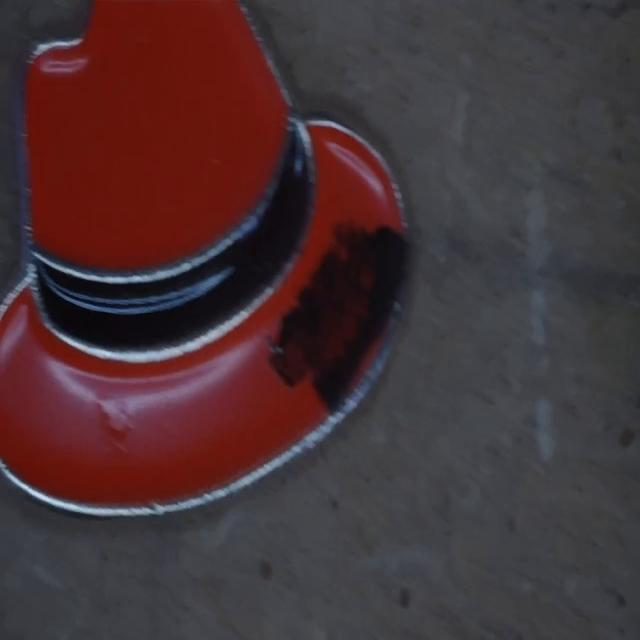Hatband: (34, 120, 314, 353)
Paint_Leak: (271, 224, 406, 411)
RedHatPin: (0, 0, 406, 516)
